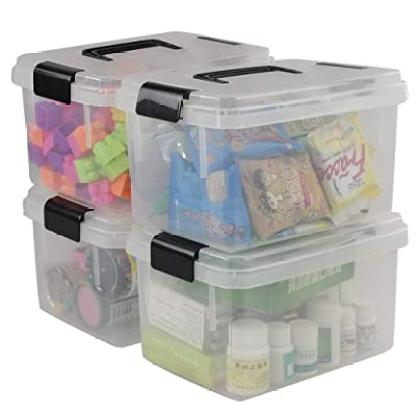plastic_box: (113, 32, 415, 245), (10, 12, 274, 222)
